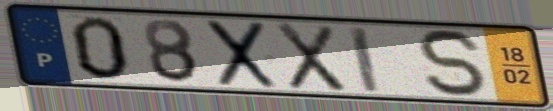0: (67, 14, 133, 82)
8: (140, 17, 201, 85)
I: (345, 24, 383, 95)
S: (412, 27, 494, 100)
X: (273, 20, 349, 95), (204, 18, 280, 91)
